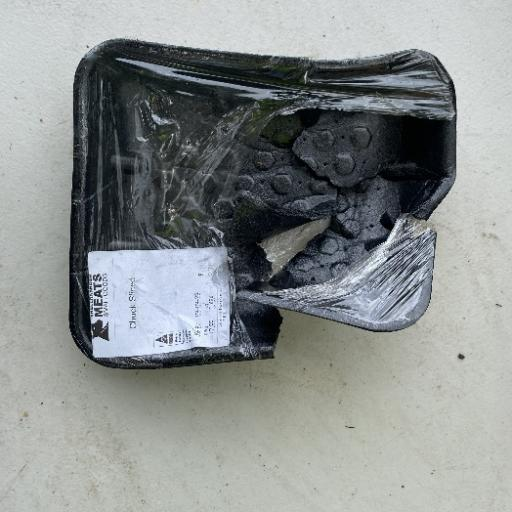Plastic: (66, 36, 460, 370)
